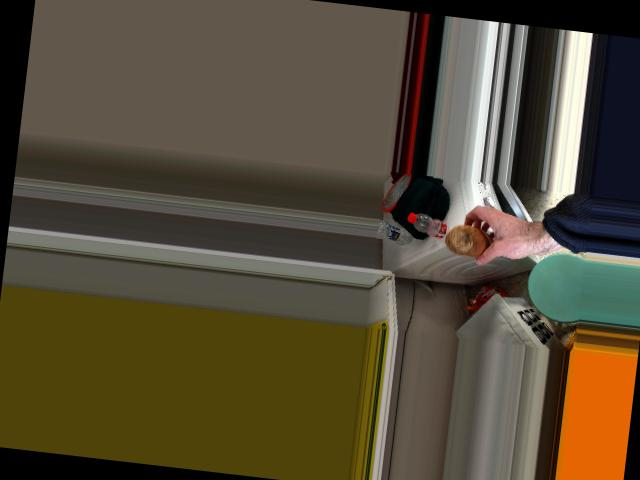sweet_potato: (444, 215, 501, 263)
